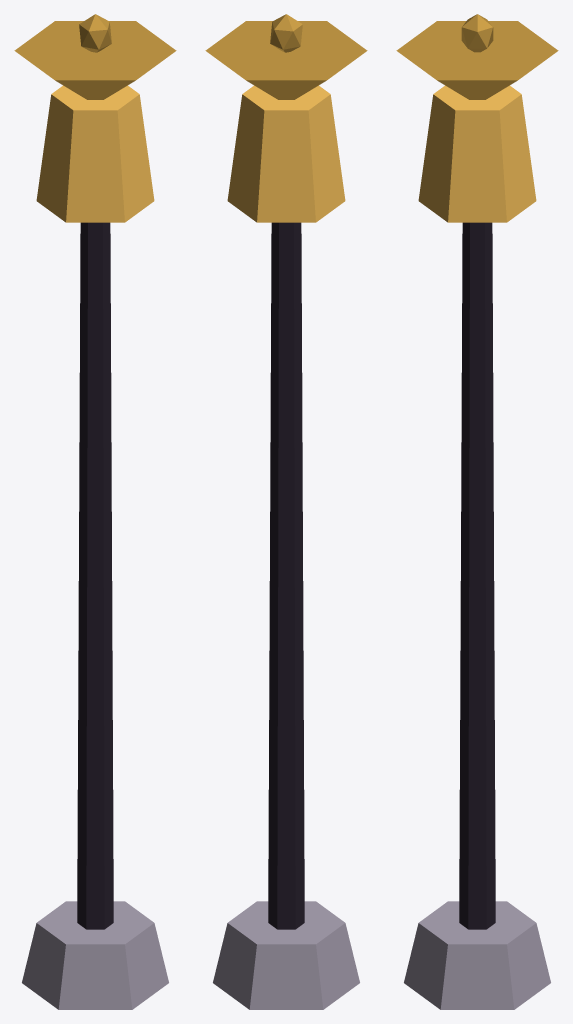
The model's file is lamp_post.glb.
3 renders of one model, left to right at view 1: azimuth 30°, elevation 25°; view 2: azimuth 150°, elevation 25°; view 3: azimuth 270°, elevation 25°, orthographic.
Parts seen in each view (by area): view 1: lamp_post; view 2: lamp_post; view 3: lamp_post.
Part boxes in pixels (left/top/right/bottom): lamp_post: left=14, top=14, right=176, bottom=1009; lamp_post: left=205, top=14, right=367, bottom=1009; lamp_post: left=396, top=14, right=558, bottom=1009.
Bounding box in the file's own units: 0.3811 × 2.9 × 0.44.
